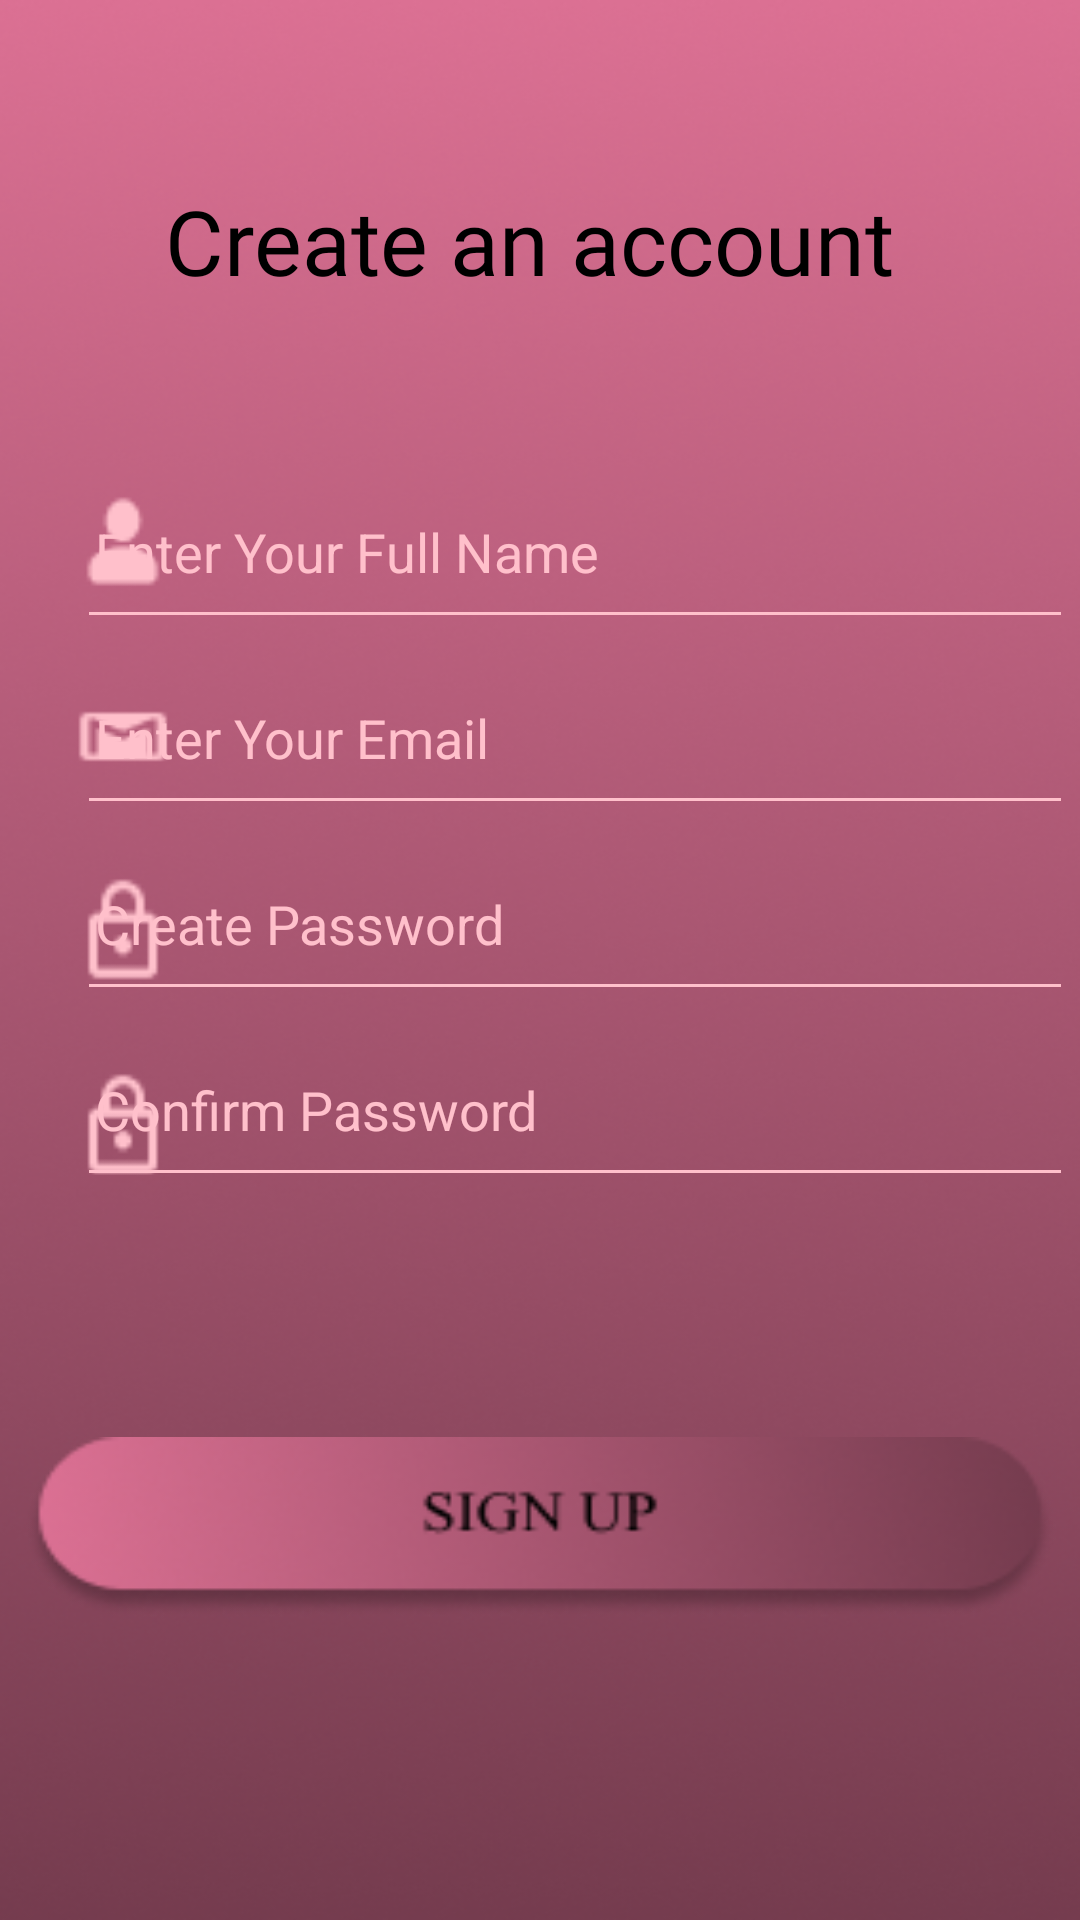

Named icons in this screenshot (1080x1920) and their centers, [x,y]:
orang: [129,541]
